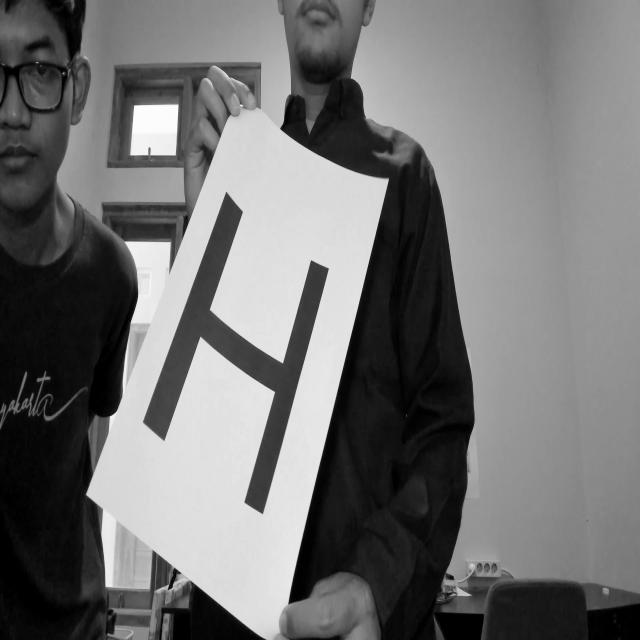h: (135, 176, 335, 508)
